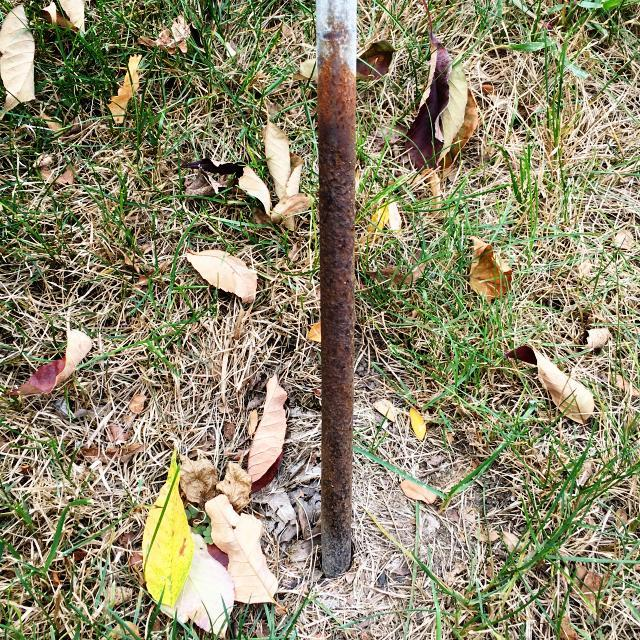Uniform Corrosion: (317, 0, 356, 577)
